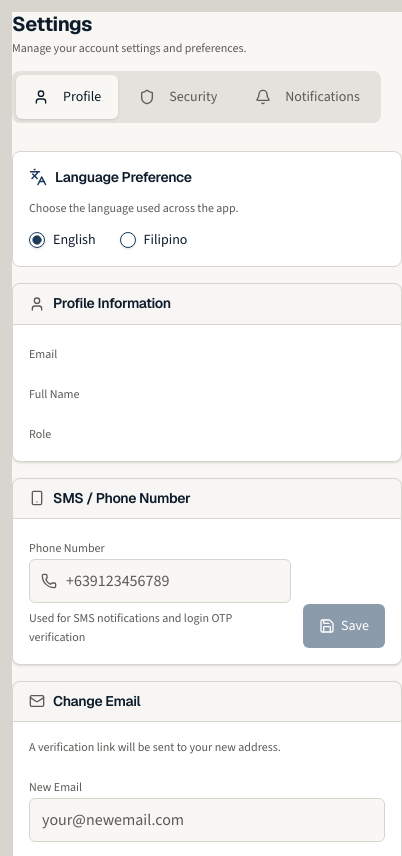
Test case: SettingsPage › updates the displayed Current phone from the save response
Type "+639170000001" into the field named "phone number" at (160, 581), box [29,559,291,603]
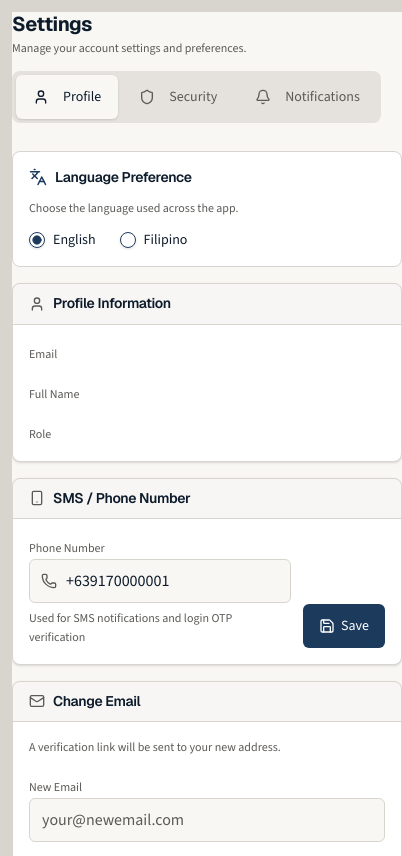
Click the button "Save" at (344, 626), box [303,604,385,648]
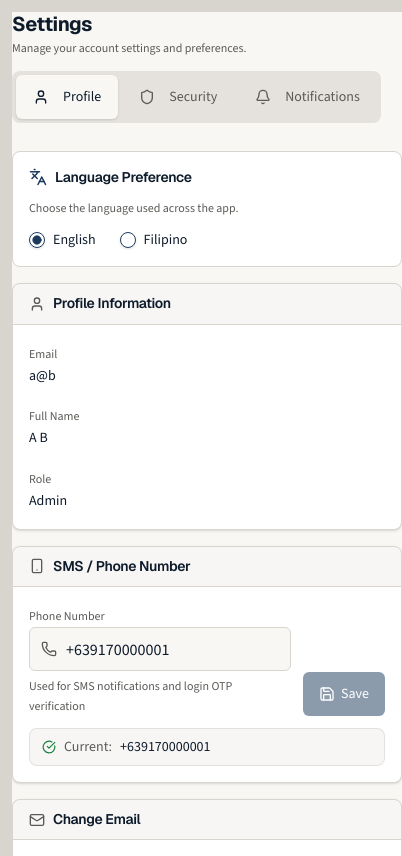
Check: the text "Current: +639170000001" is shown, box [29,728,385,766]
